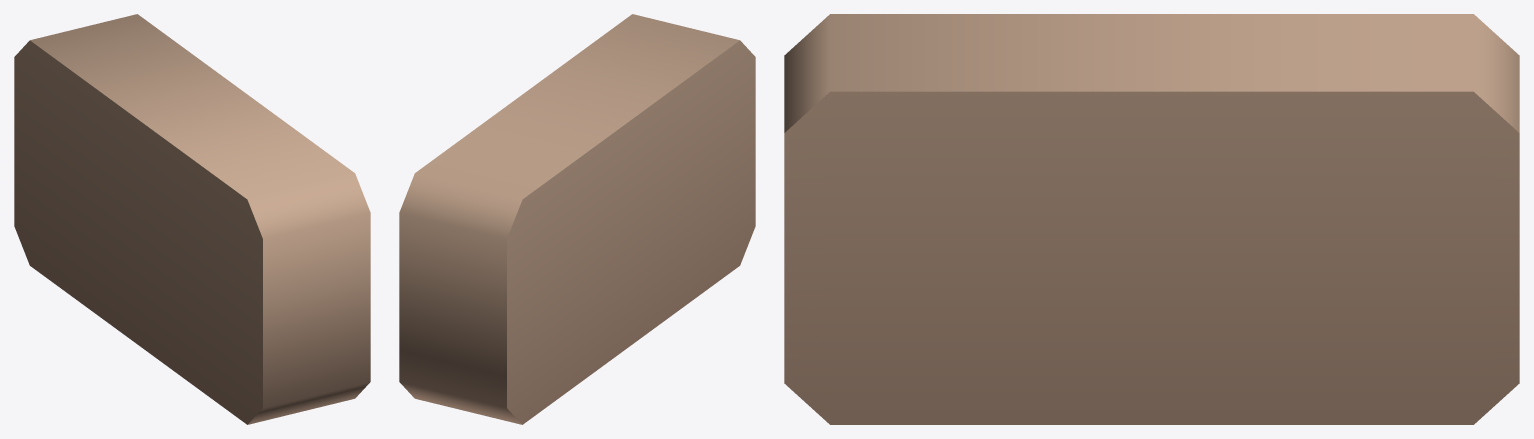
The model's file is brick-wide (%wall).glb.
The picture shows the model from 3 angles, left to right: view 1: azimuth 30°, elevation 25°; view 2: azimuth 150°, elevation 25°; view 3: azimuth 270°, elevation 25°; orthographic projection. The views are drawn at different scales.
Parts seen in each view (by area): view 1: brick-wide (%wall); view 2: brick-wide (%wall); view 3: brick-wide (%wall).
Boxes of the visible parts, left/top/right/bottom form: brick-wide (%wall): left=14, top=14, right=370, bottom=424; brick-wide (%wall): left=399, top=14, right=755, bottom=424; brick-wide (%wall): left=784, top=14, right=1519, bottom=424.
Bounding box in the file's own units: 0.1 × 0.2 × 0.4.
